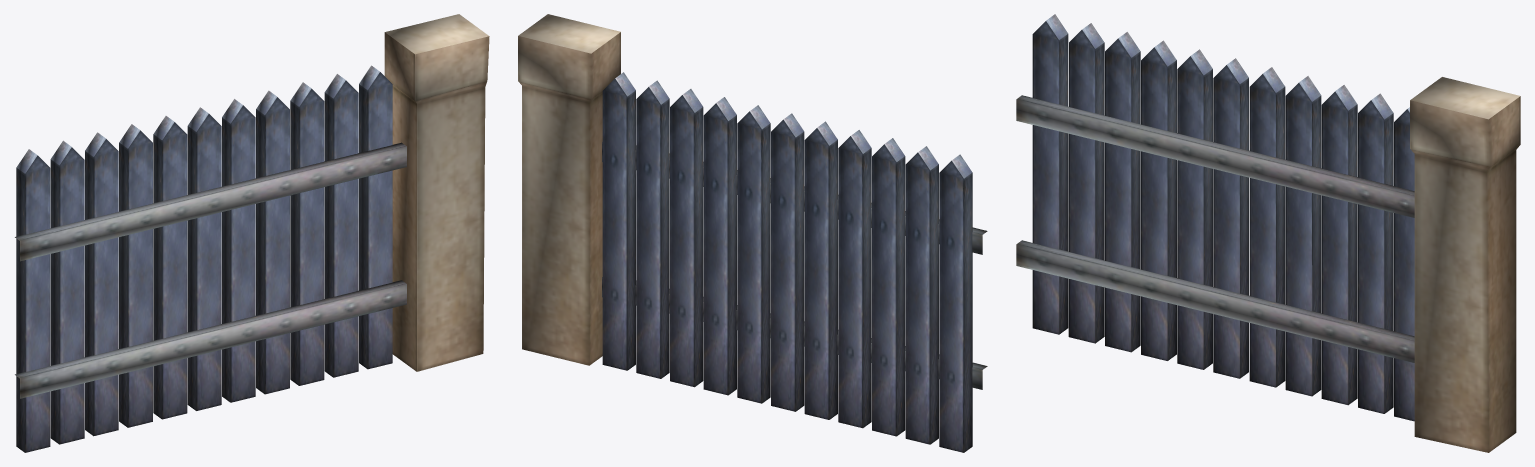
Rendered from a_SEcfence01.glb.
The picture shows the model from 3 angles, left to right: view 1: azimuth 30°, elevation 25°; view 2: azimuth 150°, elevation 25°; view 3: azimuth 330°, elevation 25°; orthographic projection. The views are drawn at different scales.
Visible parts, largest first — view 1: a_SEcfence01; view 2: a_SEcfence01; view 3: a_SEcfence01.
Boxes of the visible parts, left/top/right/bottom form: a_SEcfence01: left=15, top=14, right=489, bottom=452; a_SEcfence01: left=518, top=14, right=987, bottom=452; a_SEcfence01: left=1016, top=14, right=1520, bottom=452.
Bounding box in the file's own units: 2.01 × 1.34 × 0.2304.
Materials: 1 (1 with a texture image).
